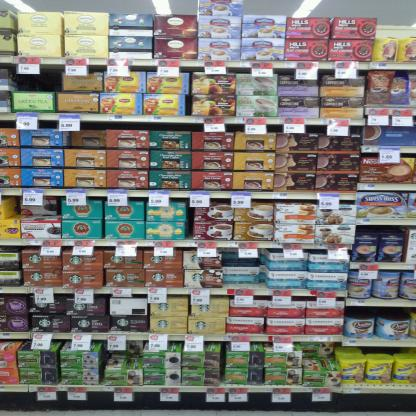Void: (18, 74, 57, 90), (13, 208, 60, 218), (105, 352, 144, 364), (73, 136, 103, 146)
